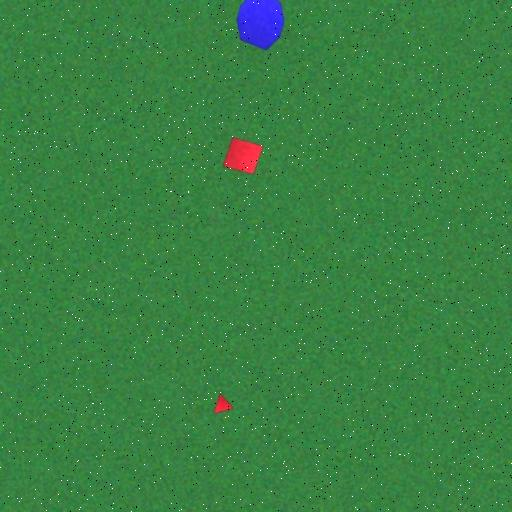RED_SQUARE: (222, 137, 264, 175)
